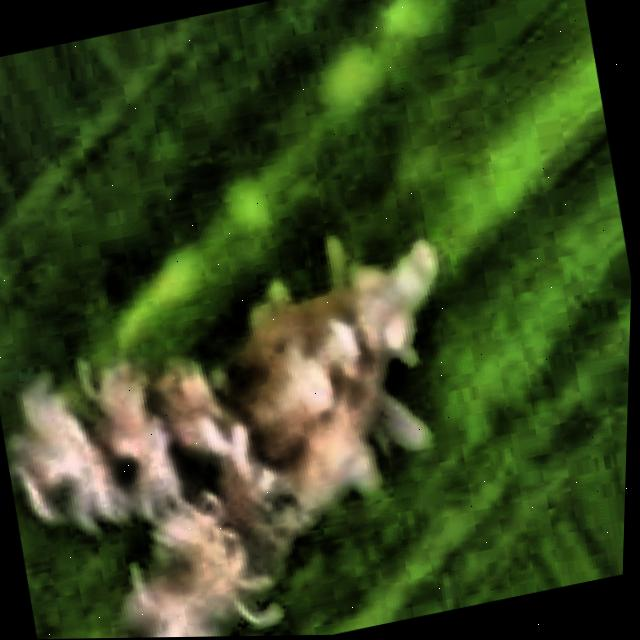Pyrilla-perpusilla: (0, 167, 593, 640)
